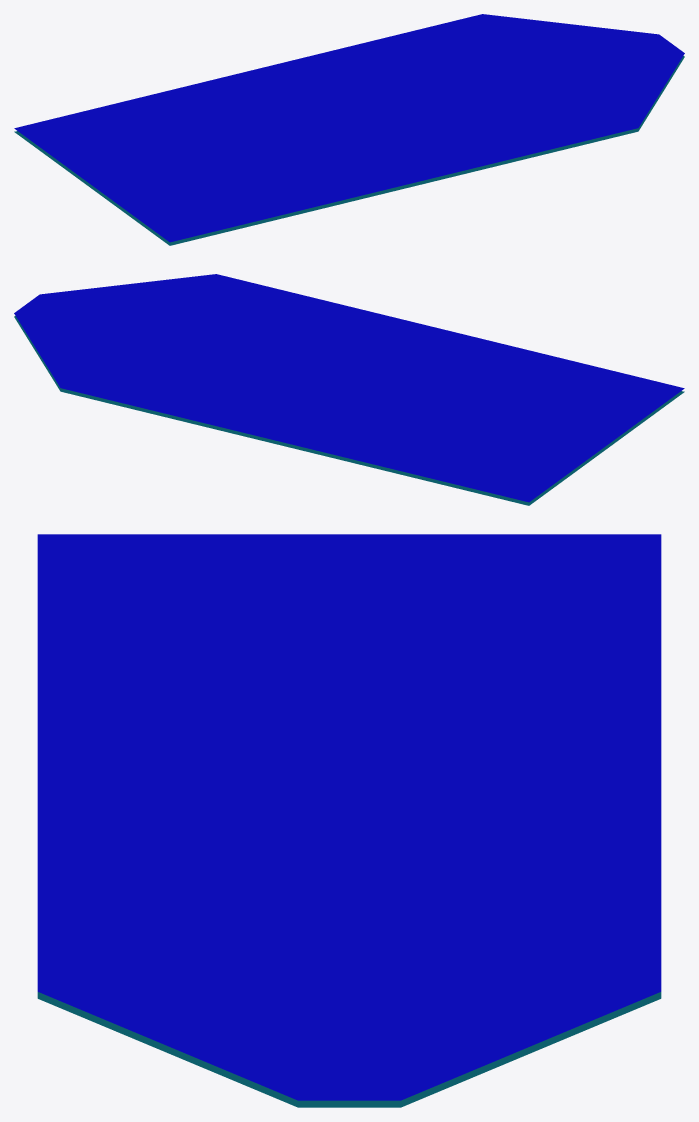
The model's file is MRO_sa_reduced.dae.
3 views of the same model, one above another, from view 1: azimuth 30°, elevation 25°; view 2: azimuth 150°, elevation 25°; view 3: azimuth 270°, elevation 25° (orthographic). The views are drawn at different scales.
Parts seen in each view (by area): view 1: MRO_sa_reduced; view 2: MRO_sa_reduced; view 3: MRO_sa_reduced.
Part boxes in pixels (bbox=[...]): MRO_sa_reduced: bbox=[14, 14, 684, 245]; MRO_sa_reduced: bbox=[14, 274, 684, 505]; MRO_sa_reduced: bbox=[37, 534, 661, 1107].
Size of the model in its own units: 5.2 by 2.42 by 0.03.
